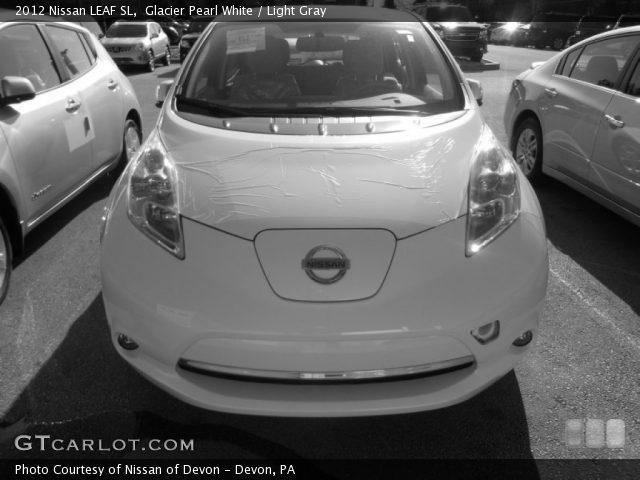car: (98, 2, 554, 422)
